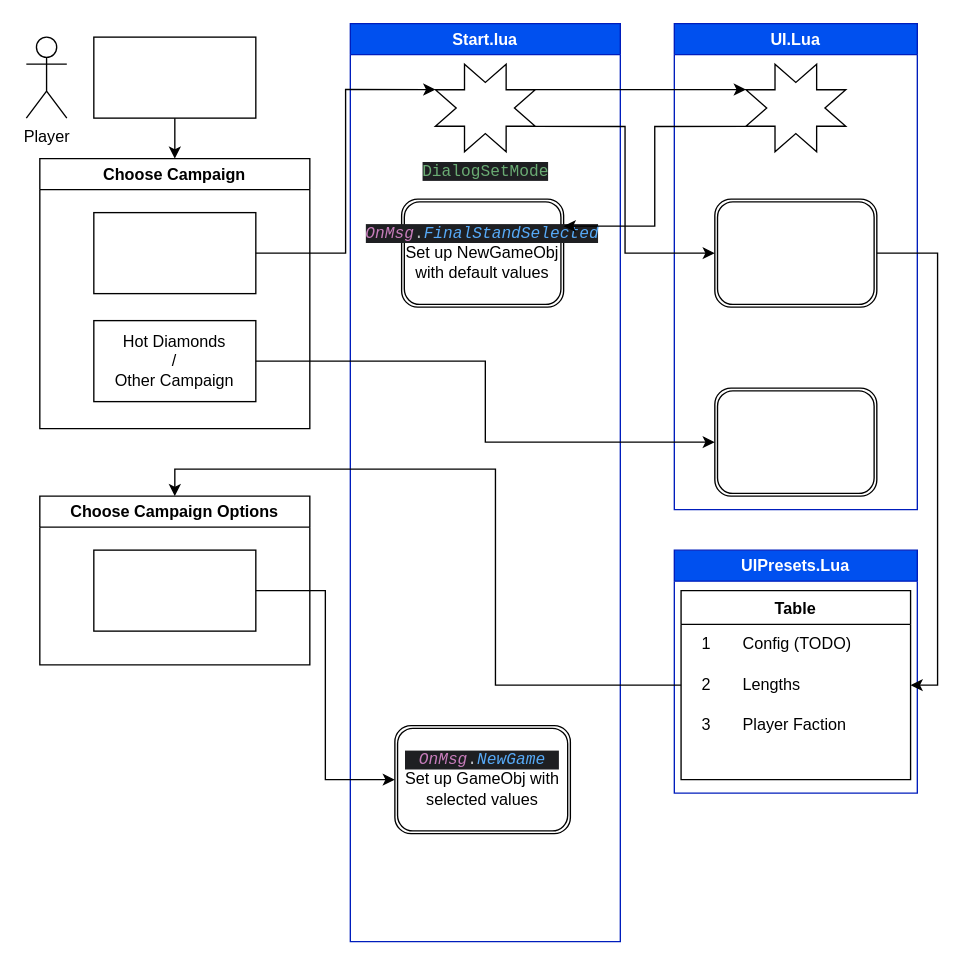
Some shapes in this 972 by 965 pixel diagram are drawn without their labels. Each missing label, with the centre of its shape:
"Ensure menu elements are removed (TODO)" belongs at (795,441).
"Final Stand" belongs at (174,252).
"FinalStandSelected" belongs at (795,107).
"Game Options" belongs at (174,590).
"Generate Templates for Items" belongs at (795,252).
"Main Menu" belongs at (174,77).
